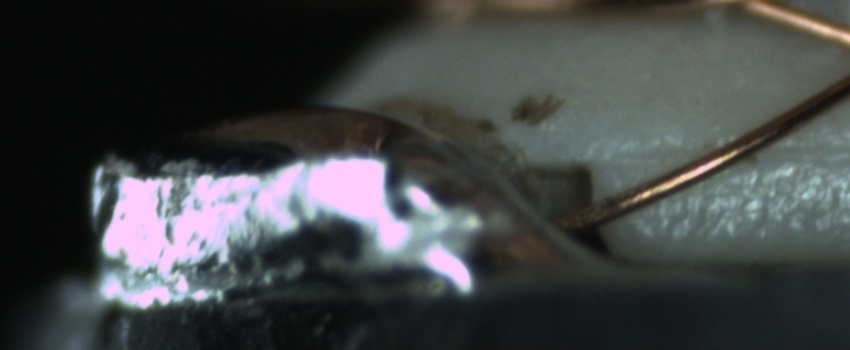DL: (614, 119, 847, 185)
